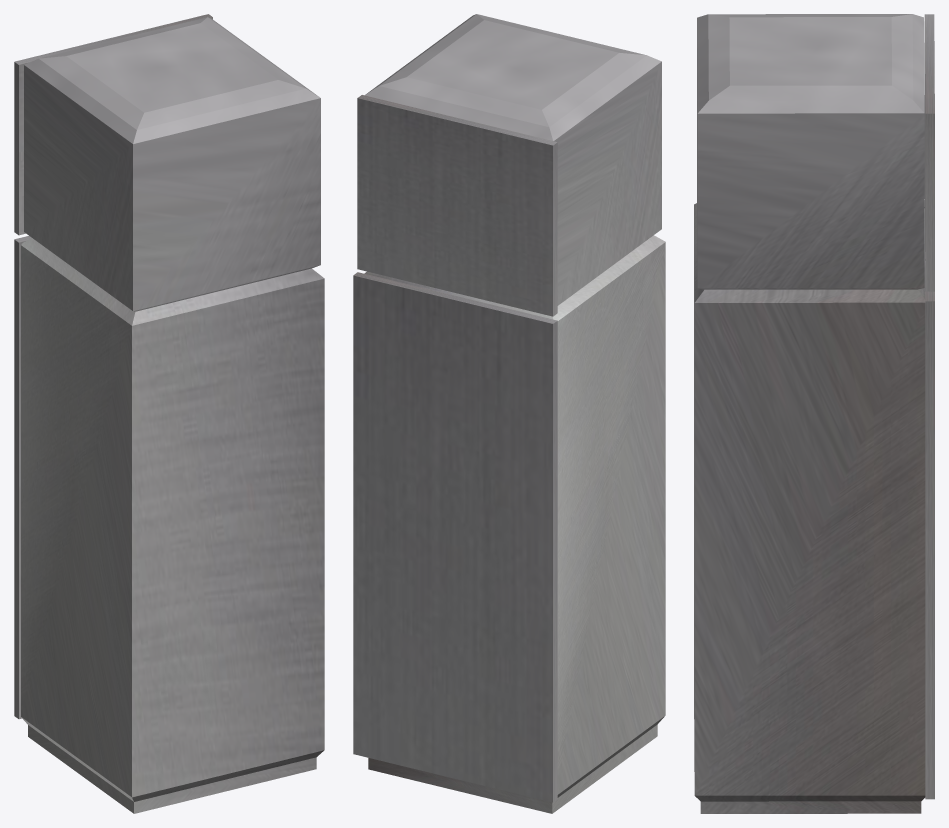
File: Fridge.fbx
3 views of the same model, side by side, from view 1: azimuth 30°, elevation 25°; view 2: azimuth 150°, elevation 25°; view 3: azimuth 270°, elevation 25° (orthographic). The views are drawn at different scales.
Parts seen in each view (by area): view 1: Cube.001, Cube.002, Cube.003; view 2: Cube.002, Cube.001, Cube.003; view 3: Cube.001, Cube.002, Cube.003.
Part boxes in pixels (box(x1,y1,x2,y2)): Cube.001: box(21, 17, 324, 813); Cube.002: box(14, 236, 31, 719); Cube.003: box(14, 14, 212, 235); Cube.002: box(353, 272, 557, 802); Cube.001: box(364, 14, 665, 813); Cube.003: box(357, 95, 557, 316); Cube.001: box(694, 14, 925, 813); Cube.002: box(924, 200, 934, 799); Cube.003: box(924, 14, 934, 291).
Size of the model in its own units: 47.58 by 157 by 47.78.
